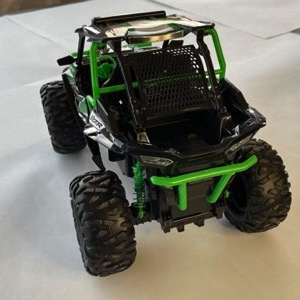polaris: (38, 9, 293, 278)
